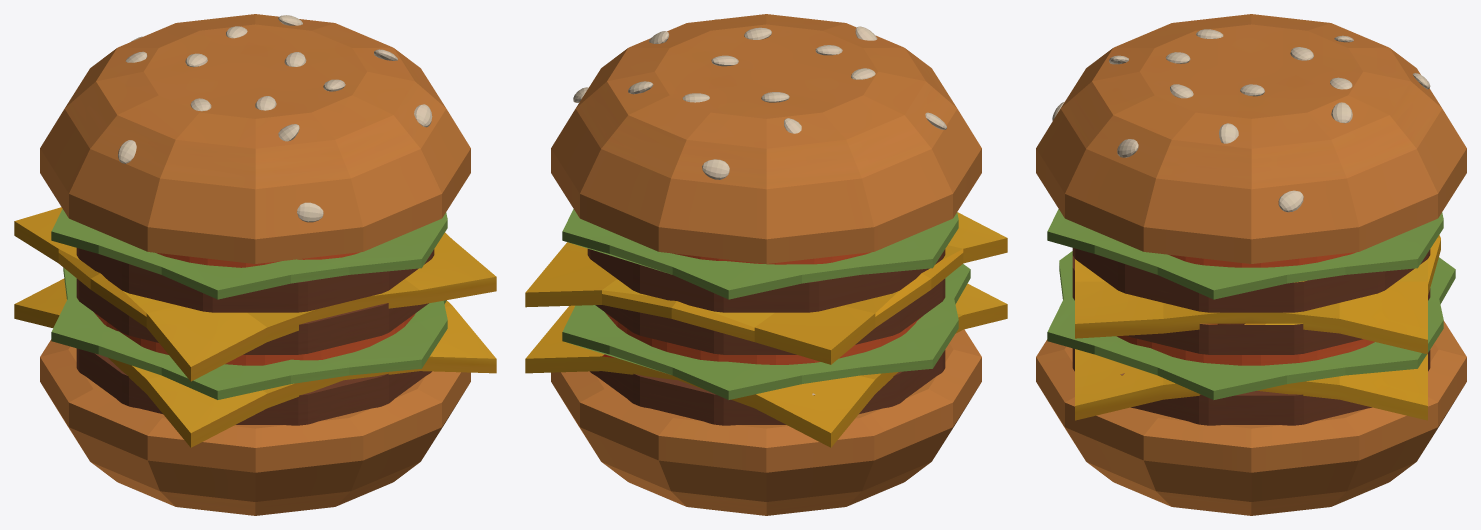
Rendered from burgerv3.fbx.
3 renders of one model, left to right at view 1: azimuth 30°, elevation 25°; view 2: azimuth 150°, elevation 25°; view 3: azimuth 270°, elevation 25°, orthographic.
Visible parts, largest first — view 1: Cube.141; view 2: Cube.141; view 3: Cube.141.
Part boxes in pixels (x1=…): Cube.141: x1=14, y1=14, x2=496, y2=515; Cube.141: x1=525, y1=14, x2=1007, y2=515; Cube.141: x1=1036, y1=14, x2=1466, y2=515.
Size of the model in its own units: 114 by 114 by 114.
Materials: 2 (2 with a texture image).
